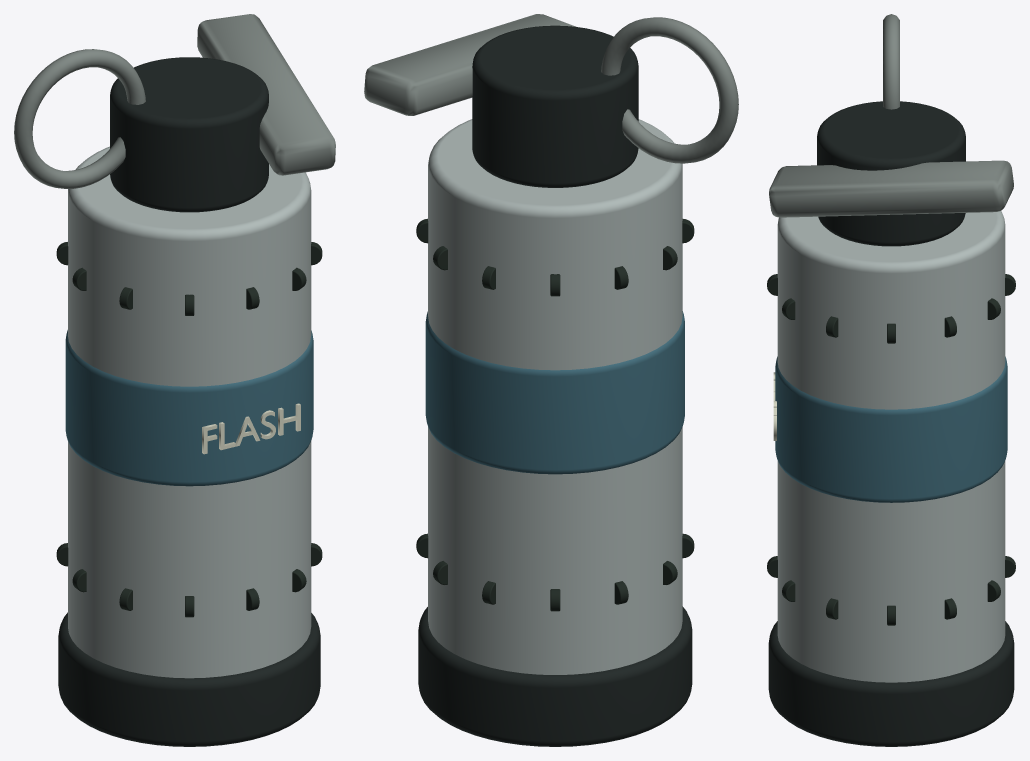
File: flashbang.glb
3 views of the same model, side by side, from view 1: azimuth 30°, elevation 25°; view 2: azimuth 150°, elevation 25°; view 3: azimuth 270°, elevation 25° (orthographic). The views are drawn at different scales.
Parts seen in each view (by area): view 1: FlashbangAluminumBody, FlashbangBlueBand, FlashbangFuze, FlashbangBase, FlashbangLever, FlashbangPullRing, FlashbangMark; view 2: FlashbangAluminumBody, FlashbangBlueBand, FlashbangFuze, FlashbangBase, FlashbangLever, FlashbangPullRing; view 3: FlashbangAluminumBody, FlashbangBlueBand, FlashbangBase, FlashbangFuze, FlashbangLever, FlashbangPullRing.
Part boxes in pixels (left/top/right/bottom): FlashbangAluminumBody: left=68, top=146, right=311, bottom=678; FlashbangBlueBand: left=65, top=330, right=313, bottom=486; FlashbangFuze: left=110, top=57, right=268, bottom=212; FlashbangBase: left=58, top=612, right=320, bottom=746; FlashbangLever: left=197, top=14, right=335, bottom=175; FlashbangPullRing: left=14, top=49, right=145, bottom=188; FlashbangMark: left=202, top=403, right=300, bottom=454; FlashbangAluminumBody: left=428, top=119, right=682, bottom=674; FlashbangBlueBand: left=425, top=311, right=684, bottom=474; FlashbangFuze: left=472, top=25, right=638, bottom=187; FlashbangBase: left=418, top=606, right=692, bottom=746; FlashbangLever: left=364, top=14, right=576, bottom=115; FlashbangPullRing: left=601, top=17, right=738, bottom=163; FlashbangAluminumBody: left=777, top=211, right=1005, bottom=682; FlashbangBlueBand: left=775, top=356, right=1007, bottom=502; FlashbangBase: left=768, top=621, right=1014, bottom=746; FlashbangFuze: left=817, top=101, right=965, bottom=246; FlashbangLever: left=769, top=160, right=1013, bottom=217; FlashbangPullRing: left=883, top=14, right=899, bottom=109.
Size of the model in its own units: 0.0739 by 0.158 by 0.0568.
